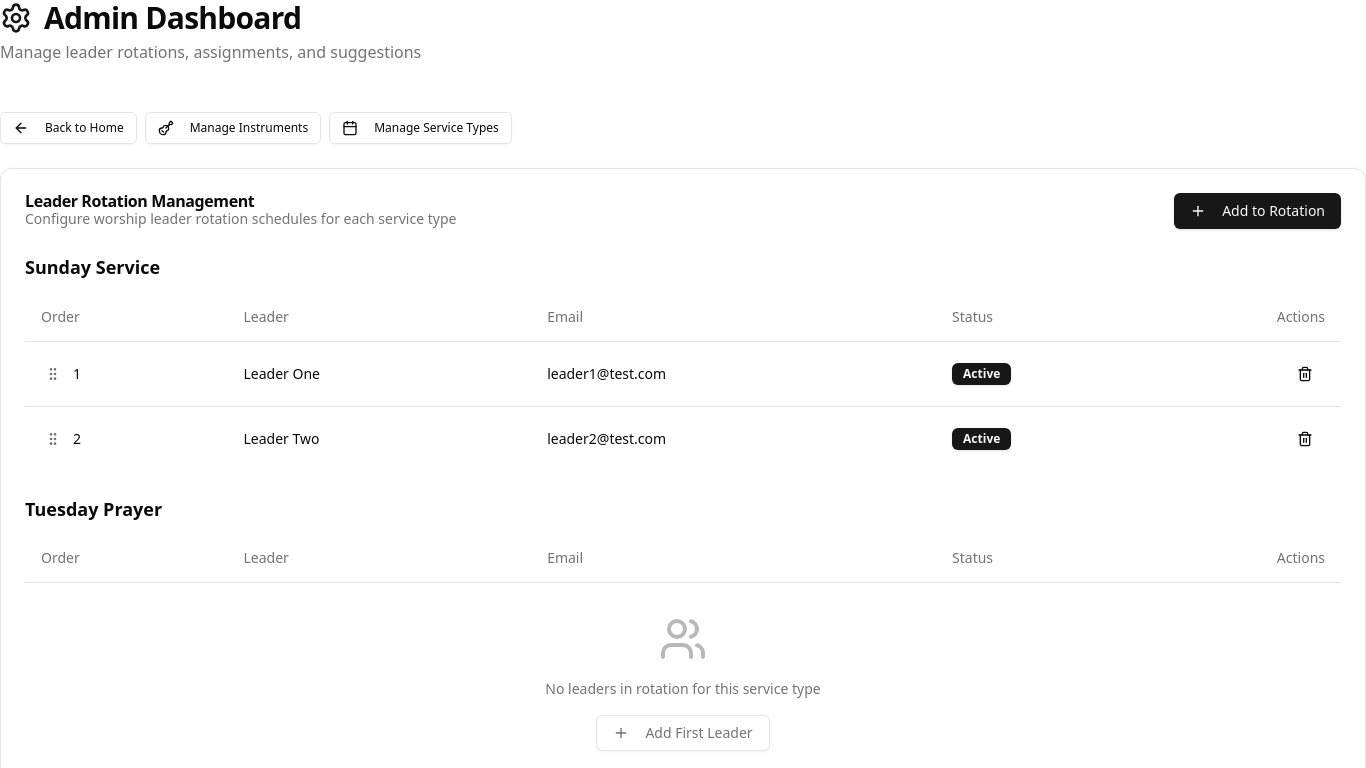
Scenario: AdminDashboard Page › Leader Rotation Management › should open add rotation modal when button clicked
Click the button "Add to Rotation" at x=1258, y=211, box [1174,193,1341,229]
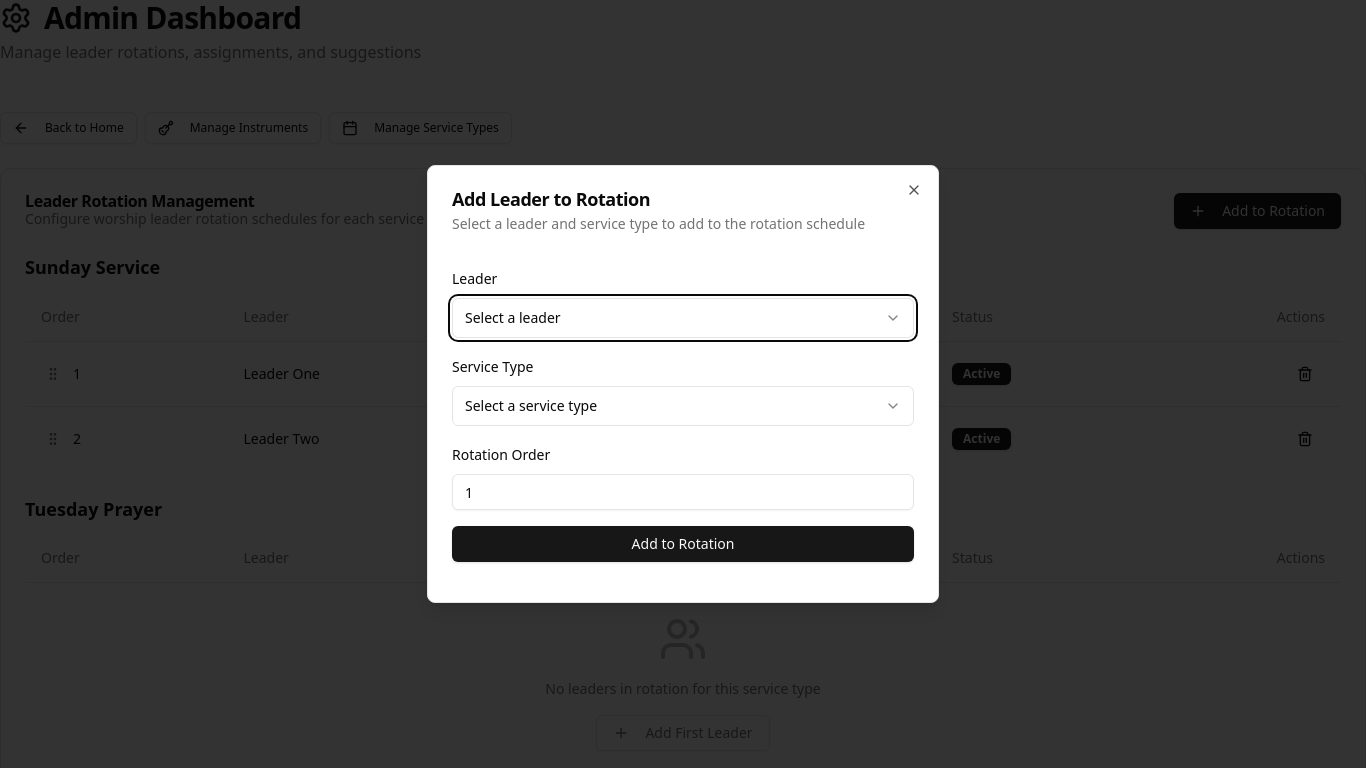
Now the heading "Add Leader to Rotation" is shown, box [452,187,650,211]
